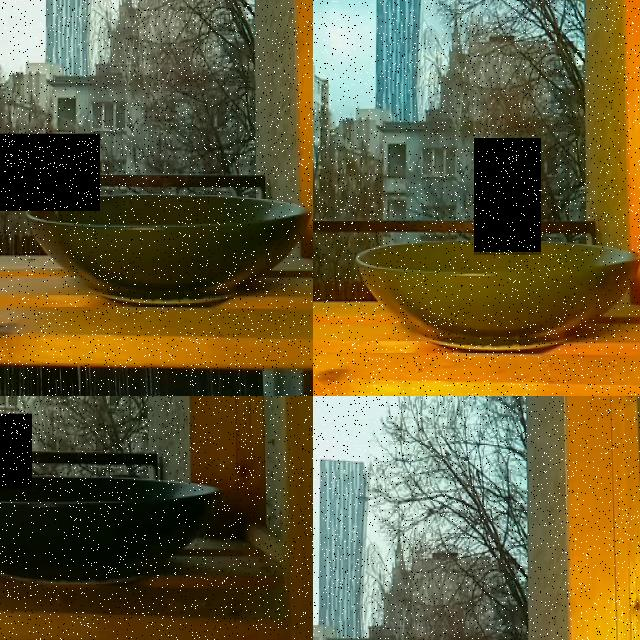Bogatka: (474, 138, 541, 254)
Wrobel: (0, 133, 100, 211), (0, 413, 32, 488)
